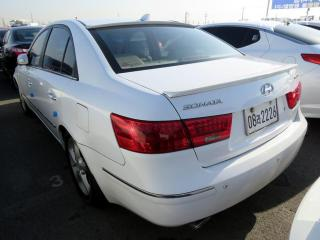0: (247, 116, 253, 129)
2: (260, 110, 266, 123), (265, 108, 270, 122), (268, 107, 273, 120)
6: (273, 106, 277, 118)
8: (252, 114, 257, 126)
plate: (238, 96, 284, 139)
라: (257, 113, 261, 125)
